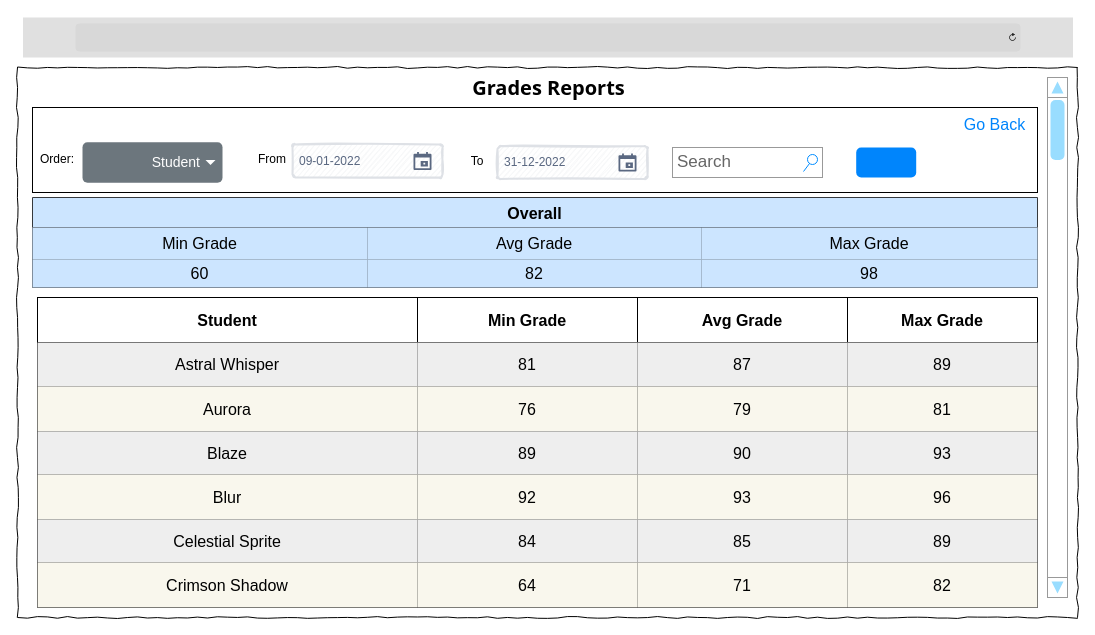
Image size: 1095x635. Some labels were removed from this diagram. The shapes that lost their labels are listed below. From the top down, each one's centre as x and y in pixels, then its label:
At point 547,37: "fourthwallacademy.com/Dashboard/Grades".
At point 886,162: "Apply".
